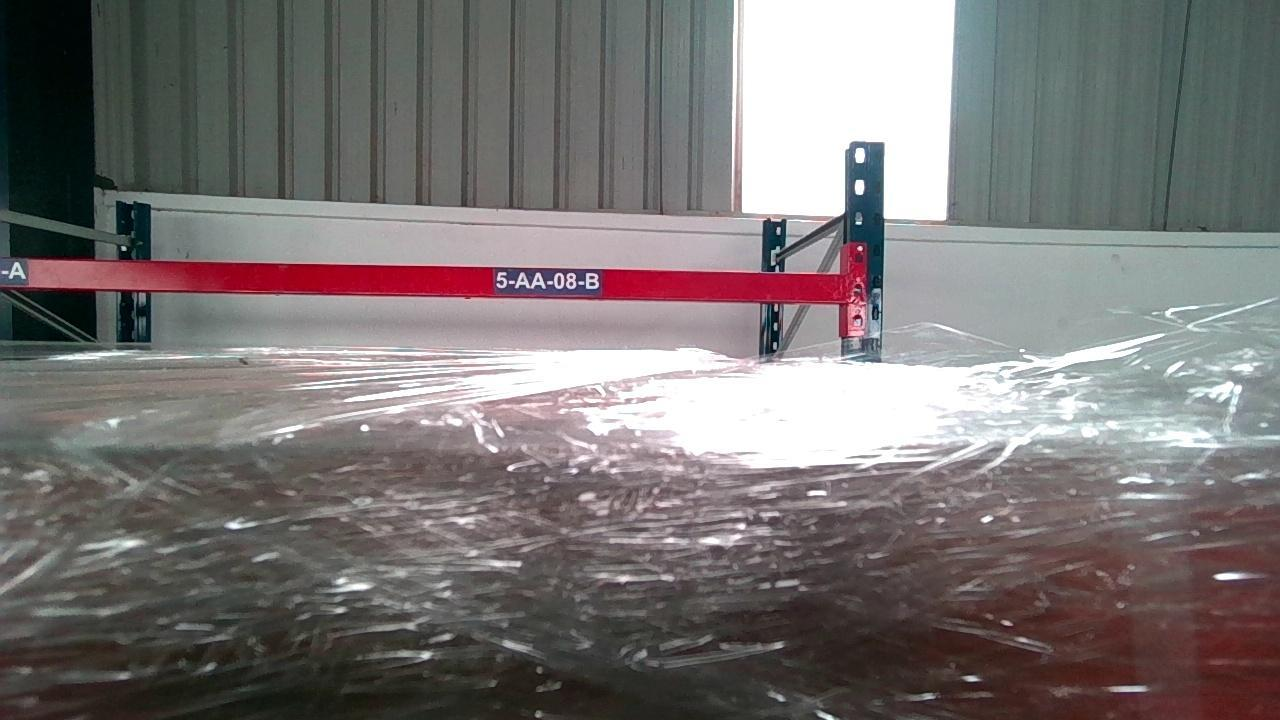h_rack: (0, 258, 845, 301)
